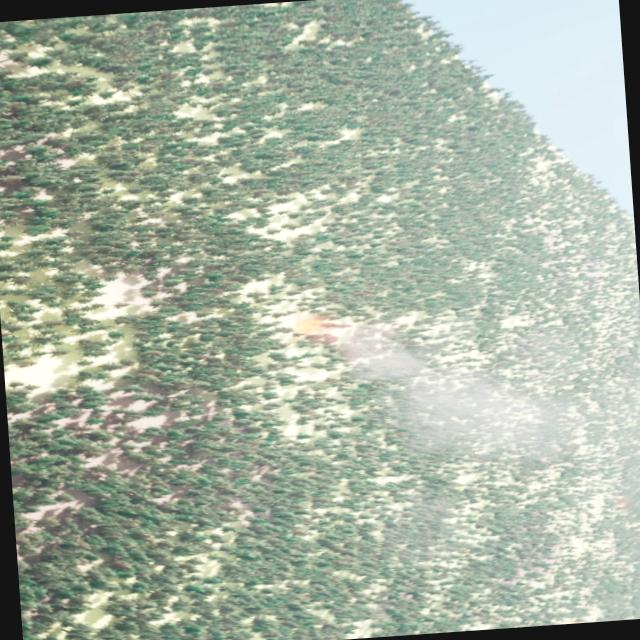fire: (294, 310, 344, 340)
smoke: (341, 312, 601, 467)
